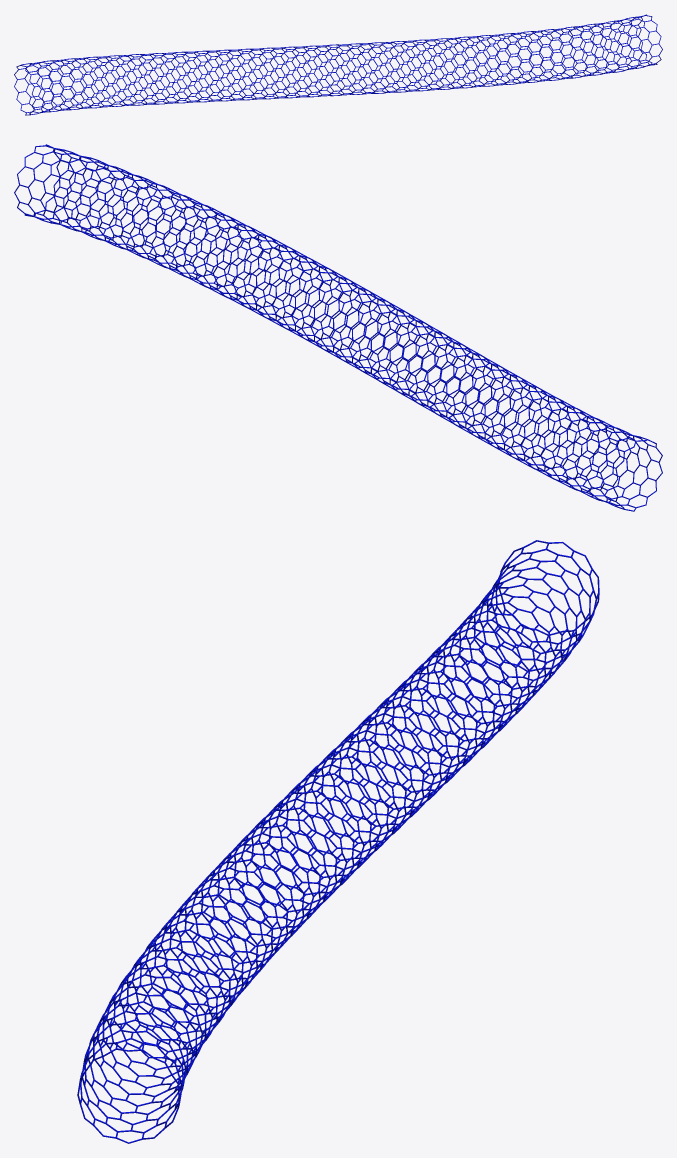
The model's file is nanotubes1.glb.
3 views of the same model, one above another, from view 1: azimuth 30°, elevation 25°; view 2: azimuth 150°, elevation 25°; view 3: azimuth 270°, elevation 25° (orthographic). The views are drawn at different scales.
Visible parts, largest first — view 1: Carbon Nanotube; view 2: Carbon Nanotube; view 3: Carbon Nanotube.
Part boxes in pixels (x1,y1,x2,y2): Carbon Nanotube: (14, 14, 662, 115); Carbon Nanotube: (14, 144, 662, 511); Carbon Nanotube: (77, 540, 599, 1143).
Size of the model in its own units: 2.35 by 0.1985 by 1.
